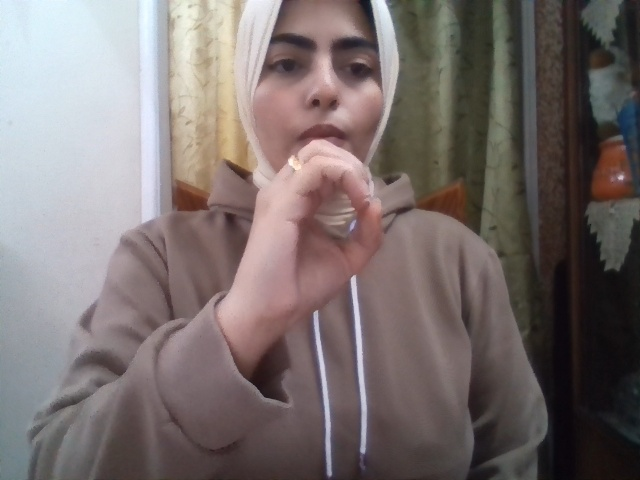O: (227, 140, 382, 327)
